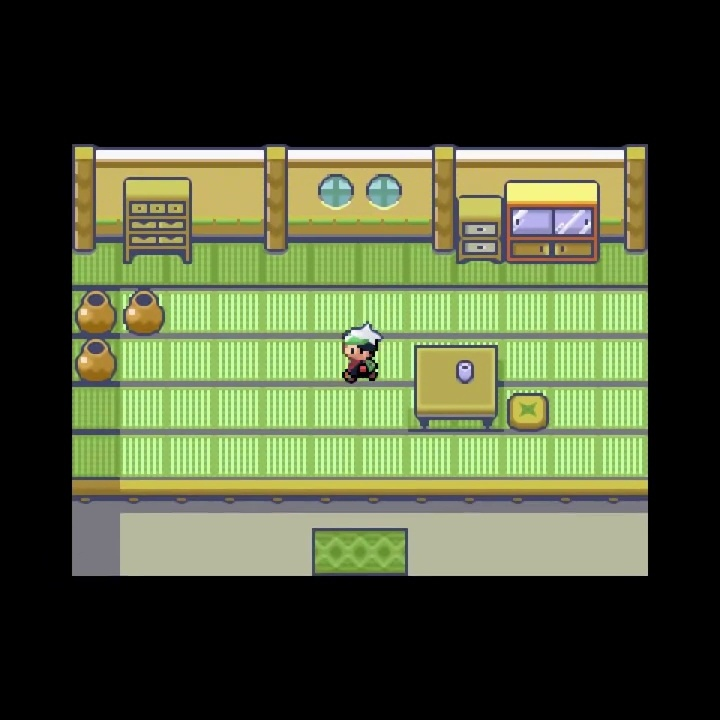npc: (338, 318, 382, 389)
